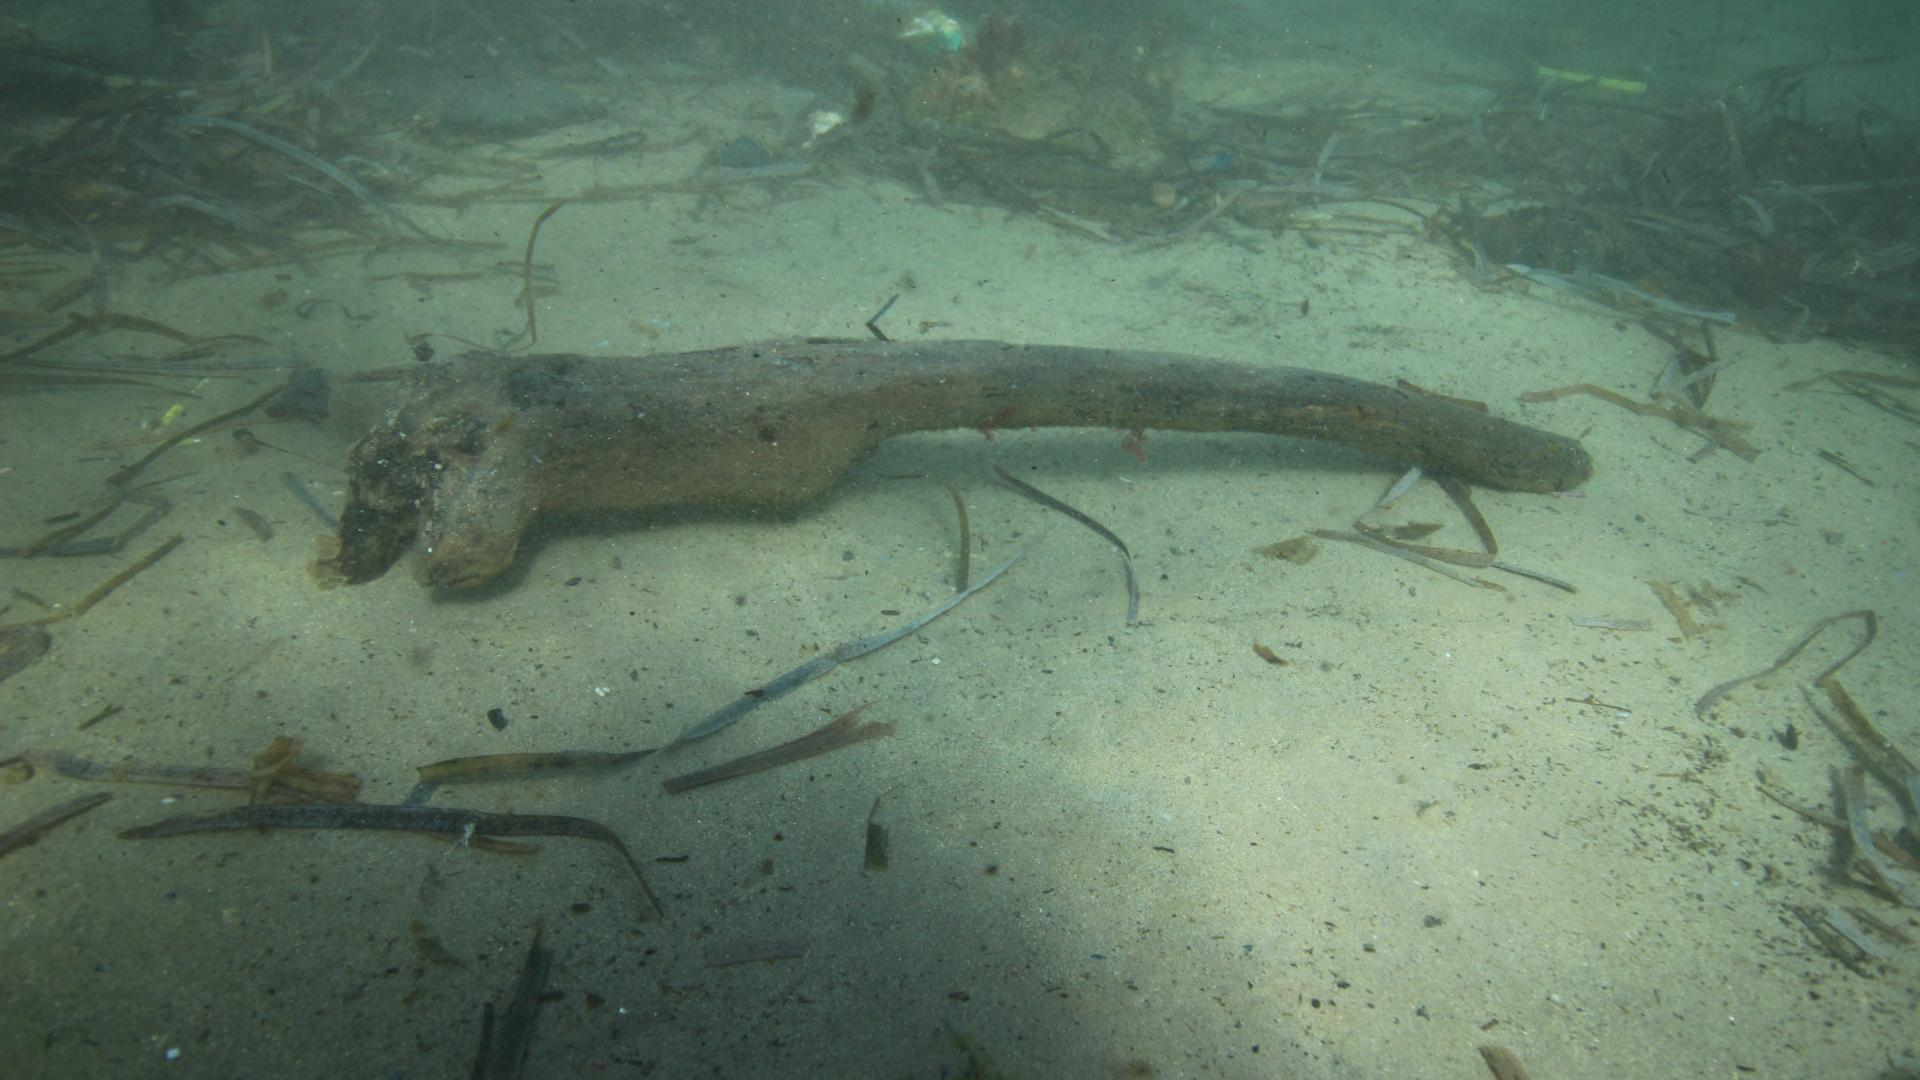wood: (340, 336, 1593, 593)
